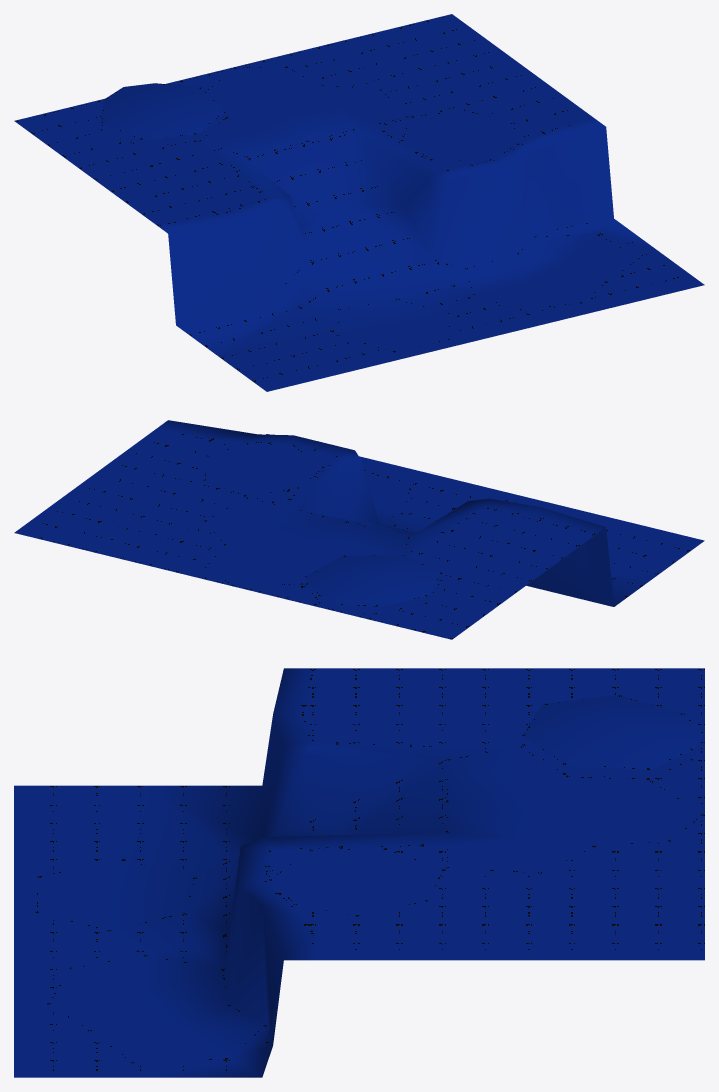
Rendered from GRD_S_C1_S_4.fbx.
3 renders of one model, top to bottom at view 1: azimuth 30°, elevation 25°; view 2: azimuth 150°, elevation 25°; view 3: azimuth 270°, elevation 25°, orthographic. The views are drawn at different scales.
Parts seen in each view (by area): view 1: material_00022000, material_00052000, material_C0042000, material_C0012000, material_C0032000; view 2: material_00022000, material_C0042000, material_00052000, material_C0012000, material_C0032000; view 3: material_00022000, material_C0042000, material_00052000, material_C0012000, material_C0032000.
Boxes of the visible parts, x1,y1,x2,y2 form: material_00022000: (14, 14, 704, 391); material_00052000: (156, 118, 613, 325); material_C0042000: (198, 66, 640, 352); material_C0012000: (100, 83, 225, 140); material_C0032000: (100, 115, 225, 147); material_00022000: (14, 429, 704, 639); material_C0042000: (203, 443, 524, 586); material_00052000: (156, 420, 613, 606); material_C0012000: (304, 555, 442, 606); material_C0032000: (304, 578, 442, 613); material_00022000: (14, 668, 704, 1077); material_C0042000: (35, 746, 704, 1063); material_00052000: (224, 668, 445, 1076); material_C0012000: (521, 695, 704, 770); material_C0032000: (521, 738, 704, 779).
Bounding box in the file's own units: 12800 × 2800 × 12800.
